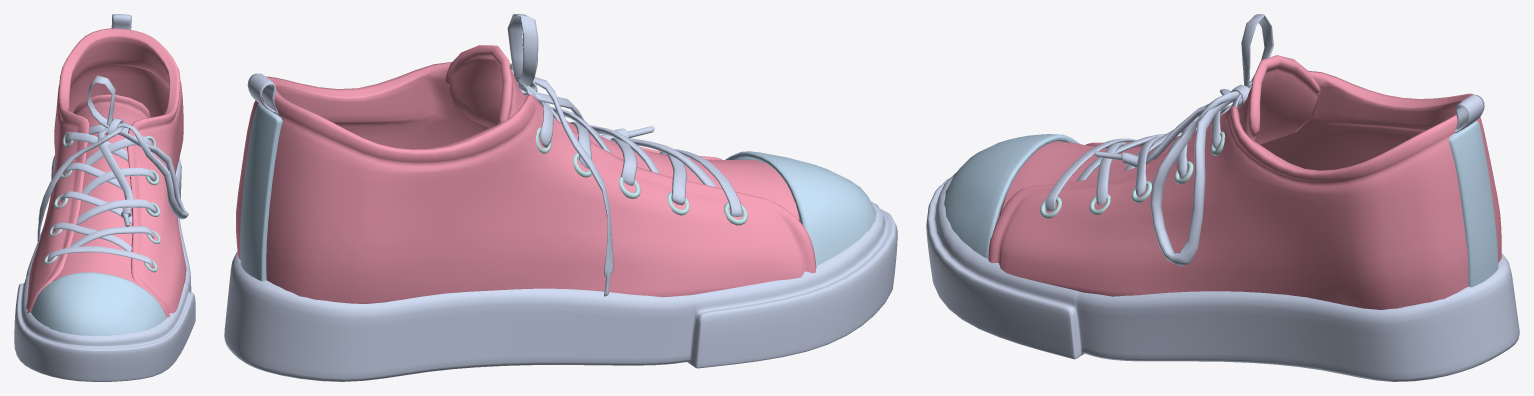
Rendered from shoe_a10d3269.glb.
3 views of the same model, side by side, from view 1: azimuth 30°, elevation 25°; view 2: azimuth 150°, elevation 25°; view 3: azimuth 270°, elevation 25° (orthographic). The views are drawn at different scales.
Parts seen in each view (by area): view 1: Object_4, Object_5, Object_2, Object_3; view 2: Object_4, Object_5, Object_2, Object_3; view 3: Object_4, Object_5, Object_2, Object_3.
Boxes of the visible parts, <box> form: Object_4: <box>26,28,186,317</box>; Object_5: <box>14,14,195,381</box>; Object_2: <box>31,272,166,336</box>; Object_3: <box>44,132,160,272</box>; Object_4: <box>236,45,816,303</box>; Object_5: <box>224,14,897,381</box>; Object_2: <box>240,103,876,281</box>; Object_3: <box>535,127,747,225</box>; Object_4: <box>988,55,1501,309</box>; Object_5: <box>926,14,1519,381</box>; Object_2: <box>944,121,1498,287</box>; Object_3: <box>1040,131,1224,218</box>.
Bounding box in the file's own units: 5.97 × 4.58 × 7.54.
